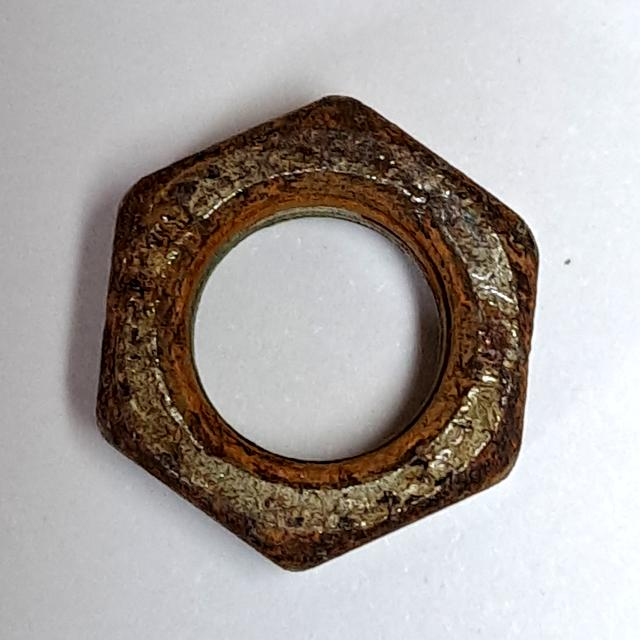Rust: (77, 85, 552, 587)
